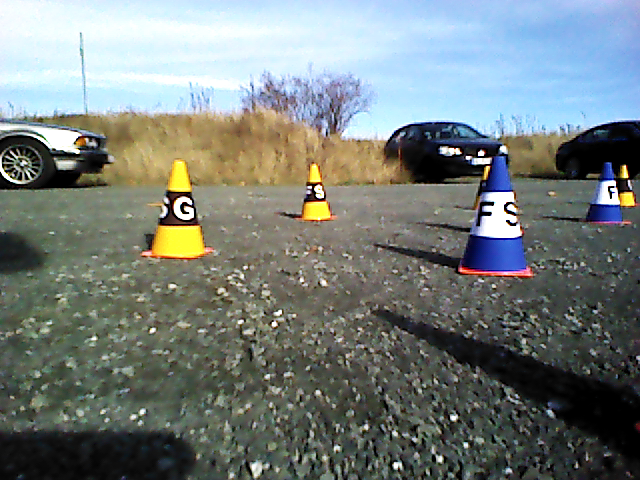bluecone: (468, 156, 525, 270), (591, 161, 620, 221)
yellowcone: (152, 160, 206, 255), (302, 164, 330, 218), (620, 165, 636, 205)
